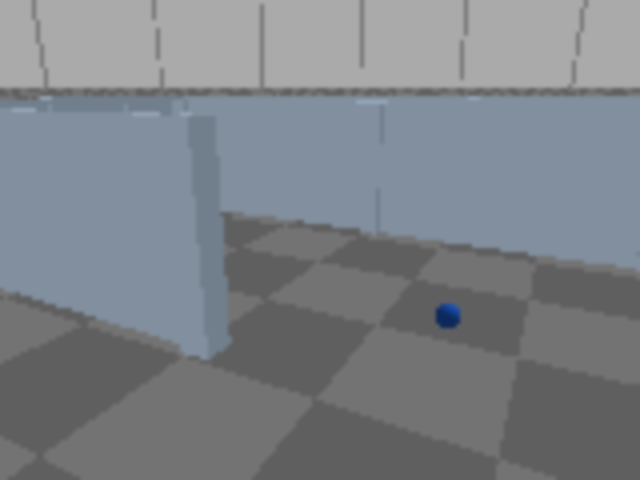puck: (430, 297, 464, 336)
